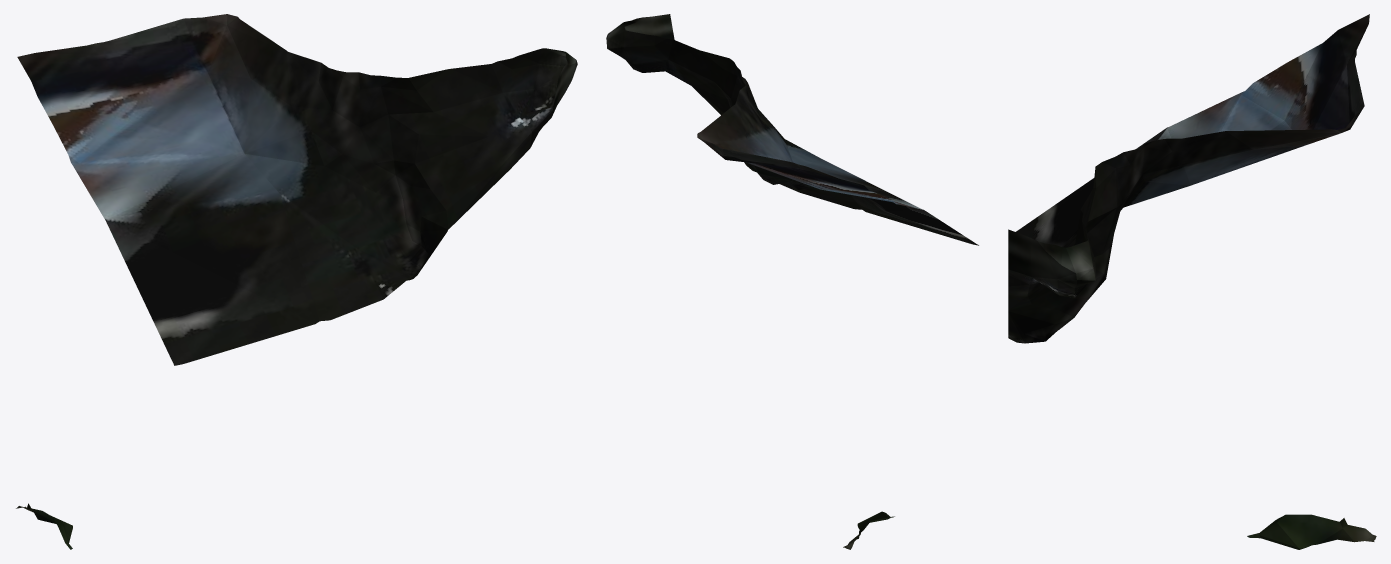
3 renders of one model, left to right at view 1: azimuth 30°, elevation 25°; view 2: azimuth 150°, elevation 25°; view 3: azimuth 270°, elevation 25°, orthographic. The views are drawn at different scales.
Bounding box in the file's own units: 0.8361 × 0.8374 × 0.5355.
2 materials, 2 textured.
